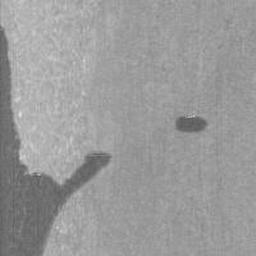Water spot: (0, 24, 114, 256)
